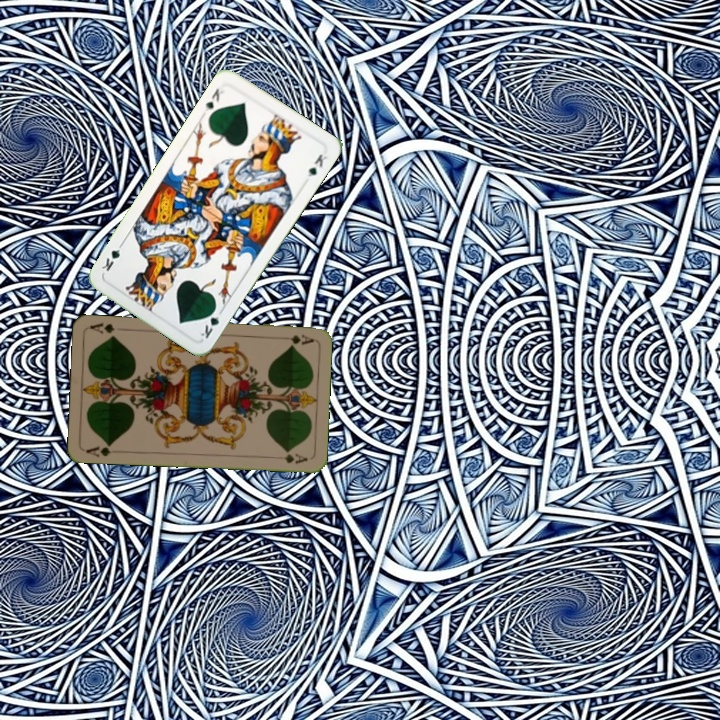GA: (82, 440, 114, 459), (286, 330, 316, 347)
GK: (196, 303, 226, 341), (199, 84, 227, 117)
